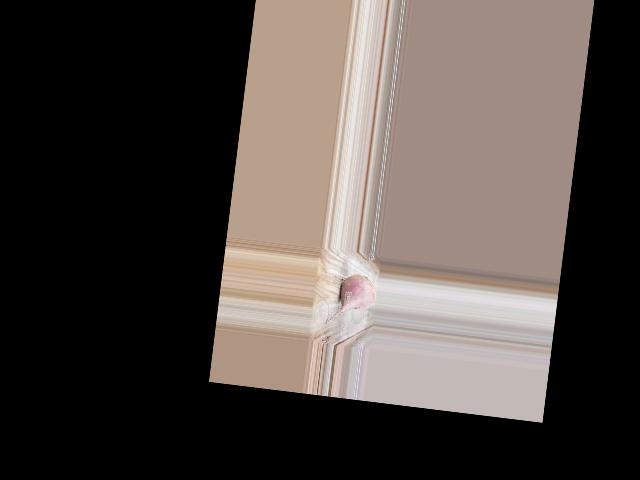beet: (326, 271, 378, 329)
